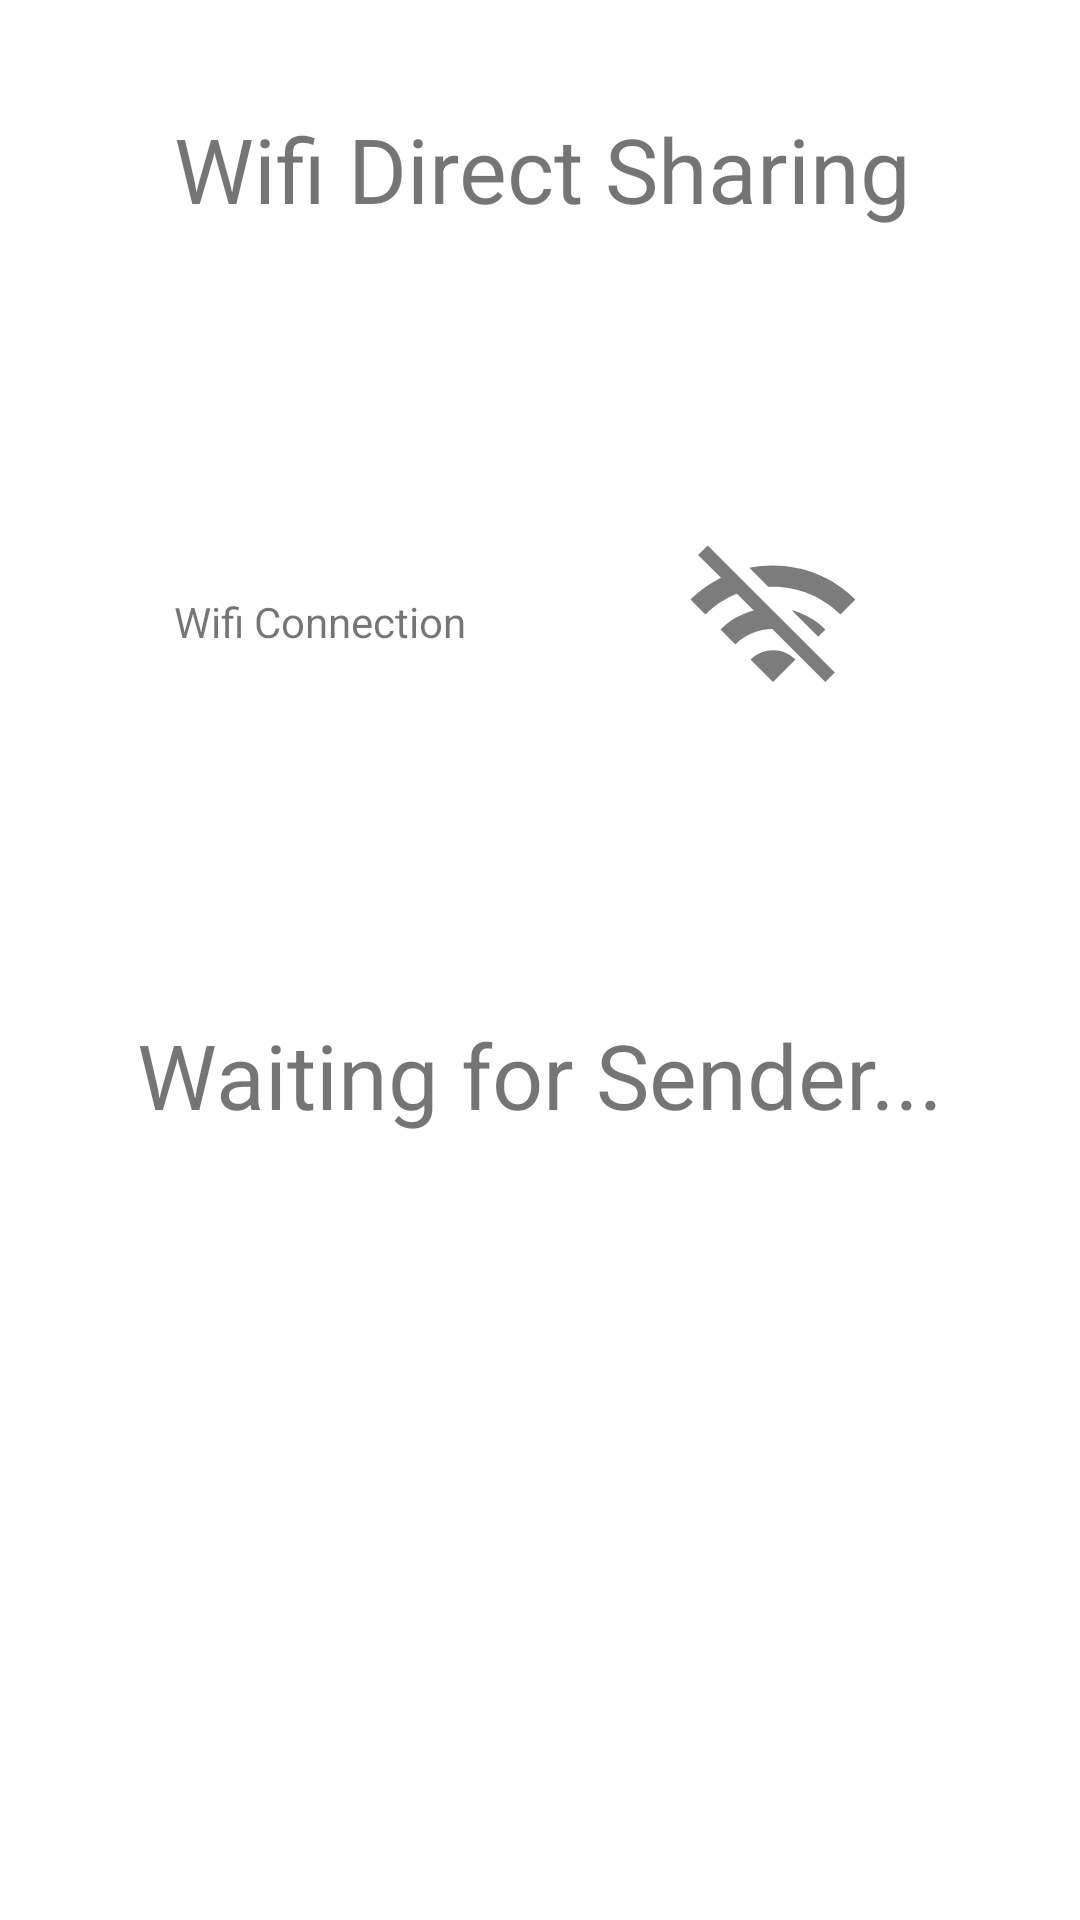

Icons on this 1080w x 1920h Android screen, each with its box as bbox=(x1, y1, x2, y2):
wifi off: bbox=(690, 545, 855, 682)
